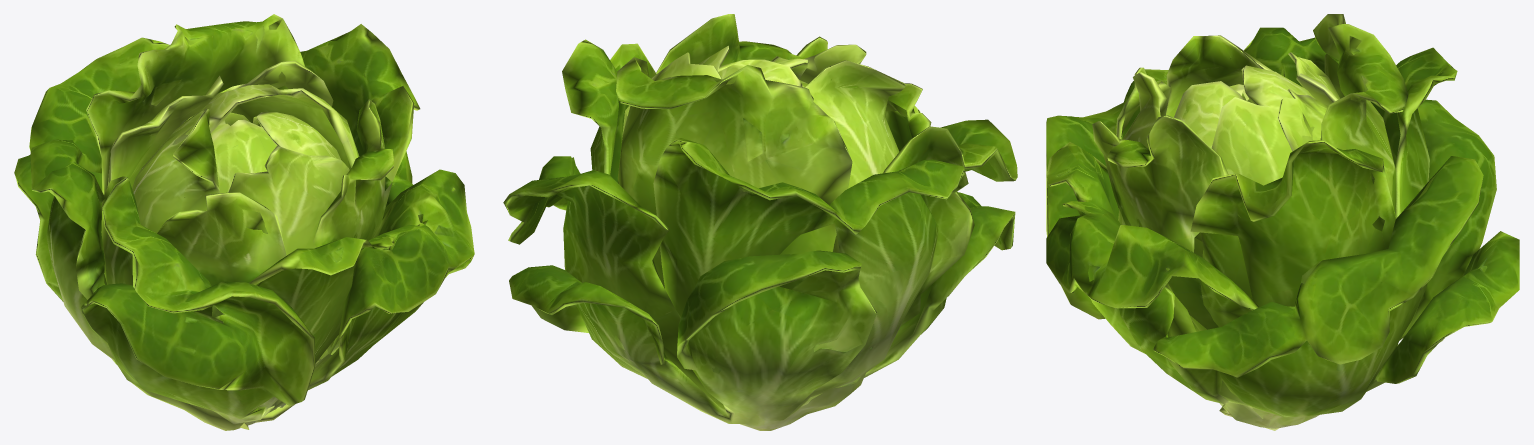
Rendered from 0faa257e-63f3-4c99-83d8-5d0c941f08a2.glb.
3 views of the same model, side by side, from view 1: azimuth 30°, elevation 25°; view 2: azimuth 150°, elevation 25°; view 3: azimuth 270°, elevation 25° (orthographic). The views are drawn at different scales.
Parts seen in each view (by area): view 1: Mesh_0; view 2: Mesh_0; view 3: Mesh_0.
Part boxes in pixels (x1=…): Mesh_0: x1=14, y1=14, x2=474, y2=430; Mesh_0: x1=503, y1=14, x2=1017, y2=430; Mesh_0: x1=1046, y1=14, x2=1519, y2=430.
Bounding box in the file's own units: 0.1635 × 0.15 × 0.1635.
Materials: 1 (1 with a texture image).
